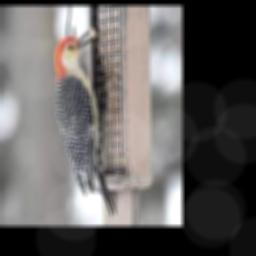Woodpecker: (55, 28, 116, 215)
